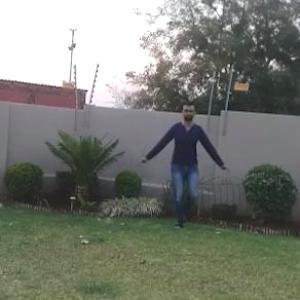land: (138, 105, 232, 230)
